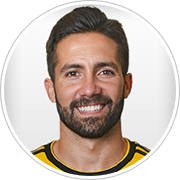smile: (76, 102, 104, 116)
